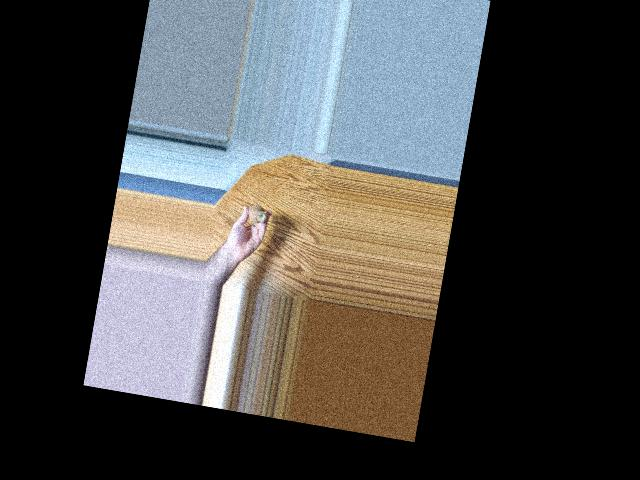sweet_potato: (246, 202, 266, 224)
